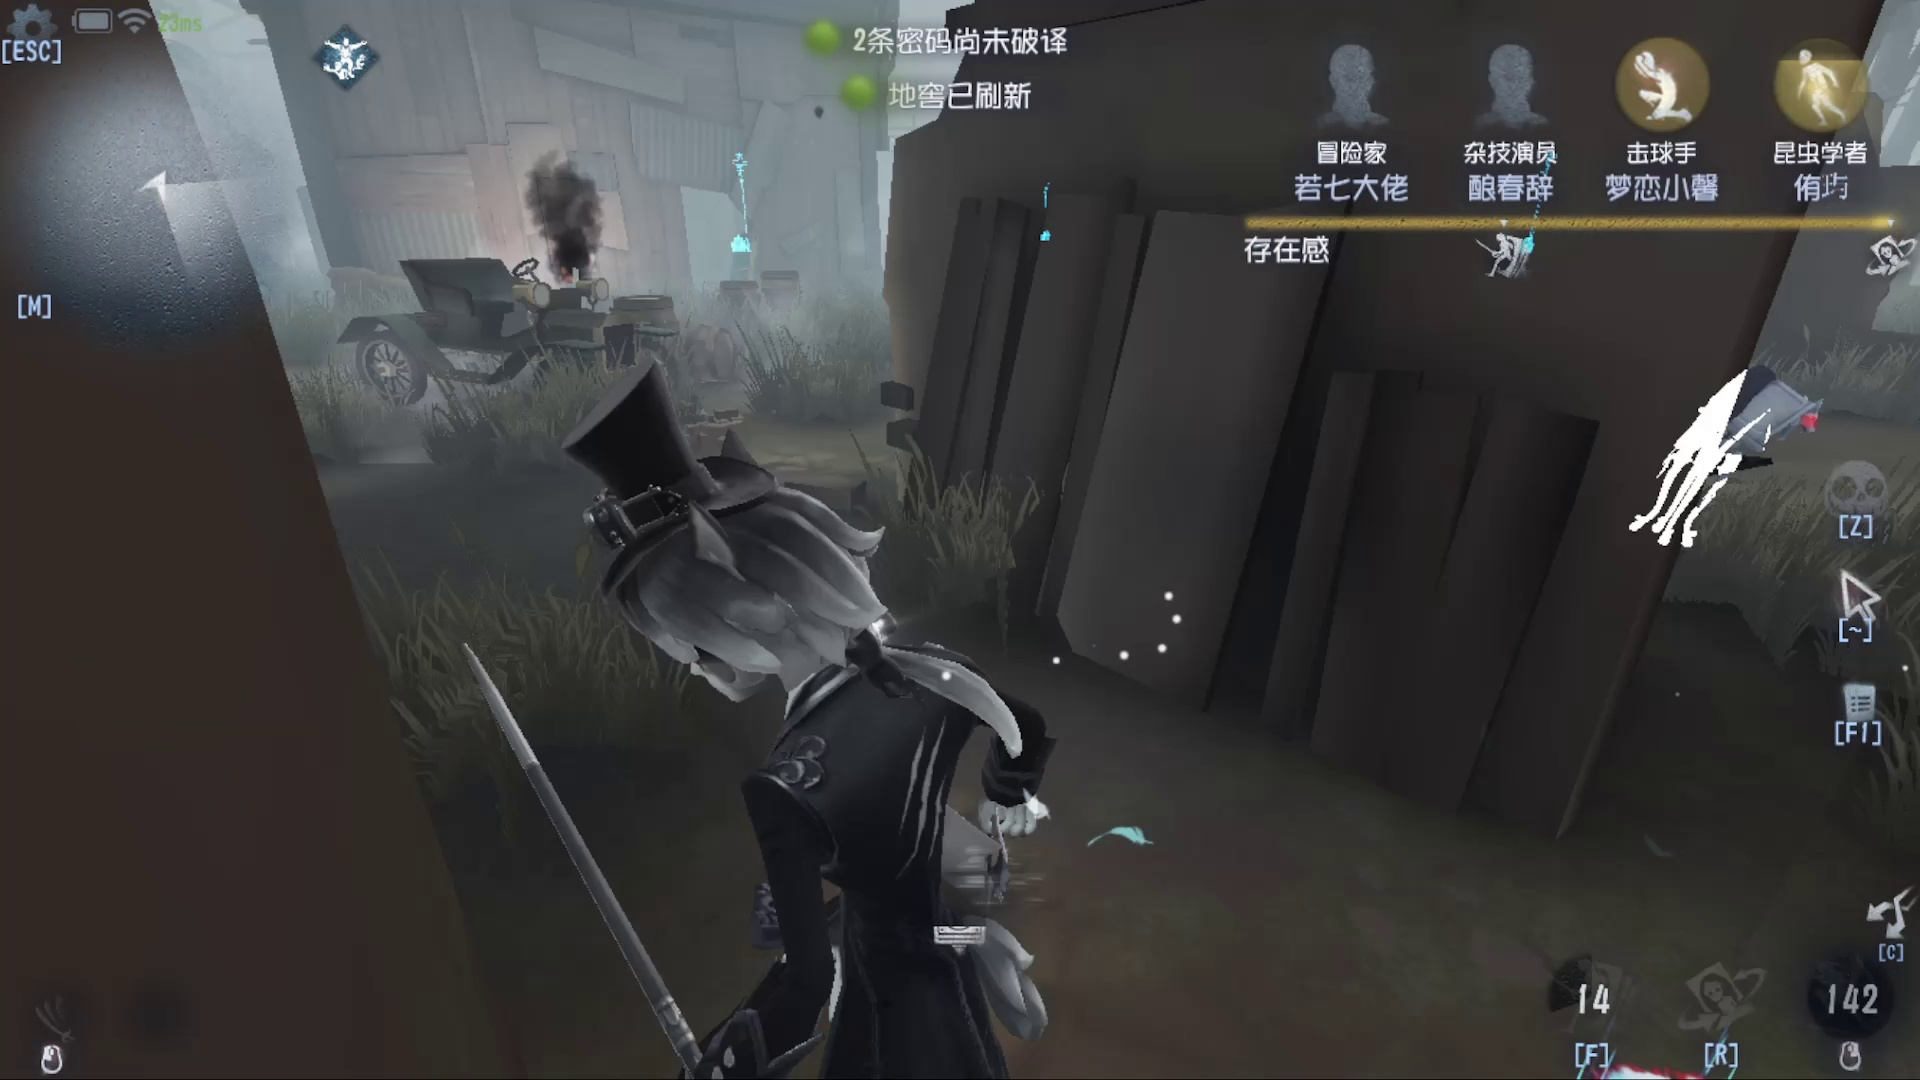密码机: (676, 121, 781, 301), (997, 142, 1083, 276)
